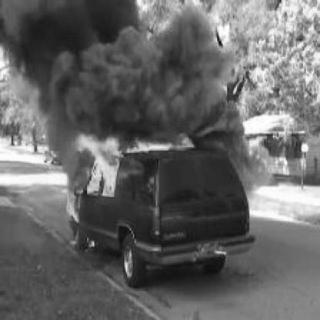Fire: (85, 237, 98, 251)
